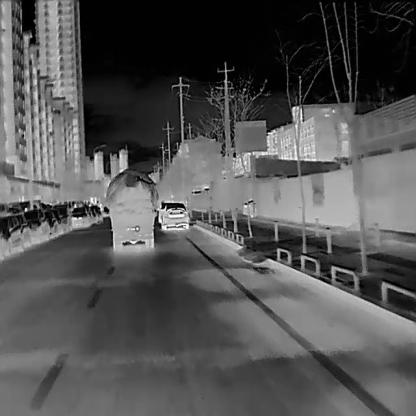car: (0, 213, 30, 256), (23, 208, 49, 245), (160, 201, 188, 230), (52, 202, 72, 232), (43, 209, 63, 238), (70, 204, 90, 228), (242, 197, 255, 217), (102, 205, 109, 215)
truck: (102, 167, 158, 250)
